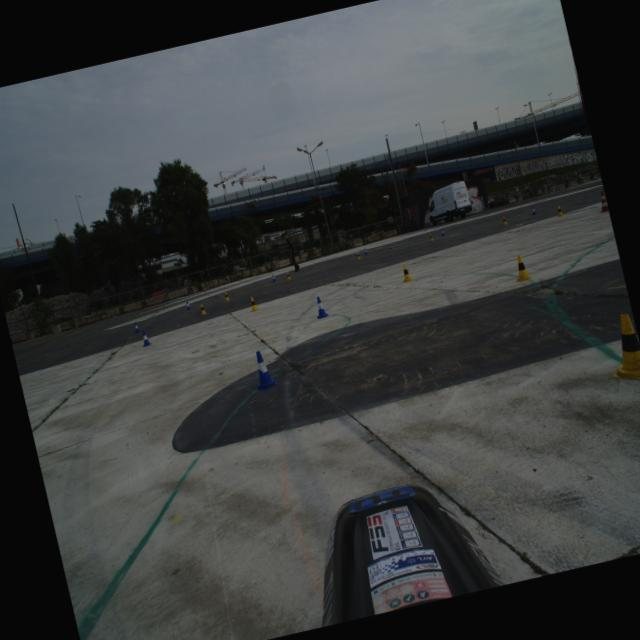blue_cone: (248, 348, 278, 391), (312, 295, 328, 319), (139, 329, 152, 346), (132, 322, 140, 332), (184, 300, 190, 310), (270, 274, 276, 282), (530, 206, 536, 214), (363, 248, 368, 255), (440, 228, 445, 235)
large_orange_cone: (594, 190, 608, 212)
yellow_cone: (599, 311, 640, 386), (510, 253, 532, 282), (399, 263, 412, 282), (248, 295, 258, 311), (555, 204, 564, 217), (198, 302, 206, 314), (222, 291, 230, 301), (500, 215, 507, 225), (285, 271, 291, 280), (428, 232, 433, 242), (355, 252, 361, 260)
